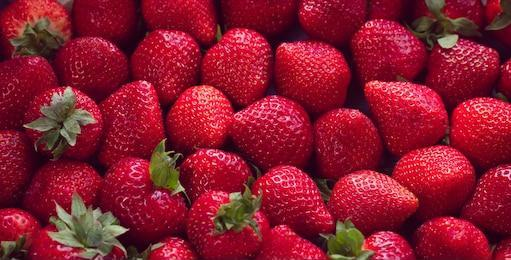Fresa: (95, 154, 194, 246), (356, 74, 456, 162), (90, 78, 171, 172), (228, 90, 316, 174), (390, 140, 481, 221), (247, 160, 338, 239), (20, 81, 105, 165), (268, 32, 355, 114), (421, 28, 503, 111), (346, 14, 430, 91), (128, 25, 207, 106), (187, 185, 271, 260), (199, 25, 273, 110), (328, 166, 420, 233), (310, 105, 387, 182), (164, 80, 238, 156), (52, 34, 131, 99)
